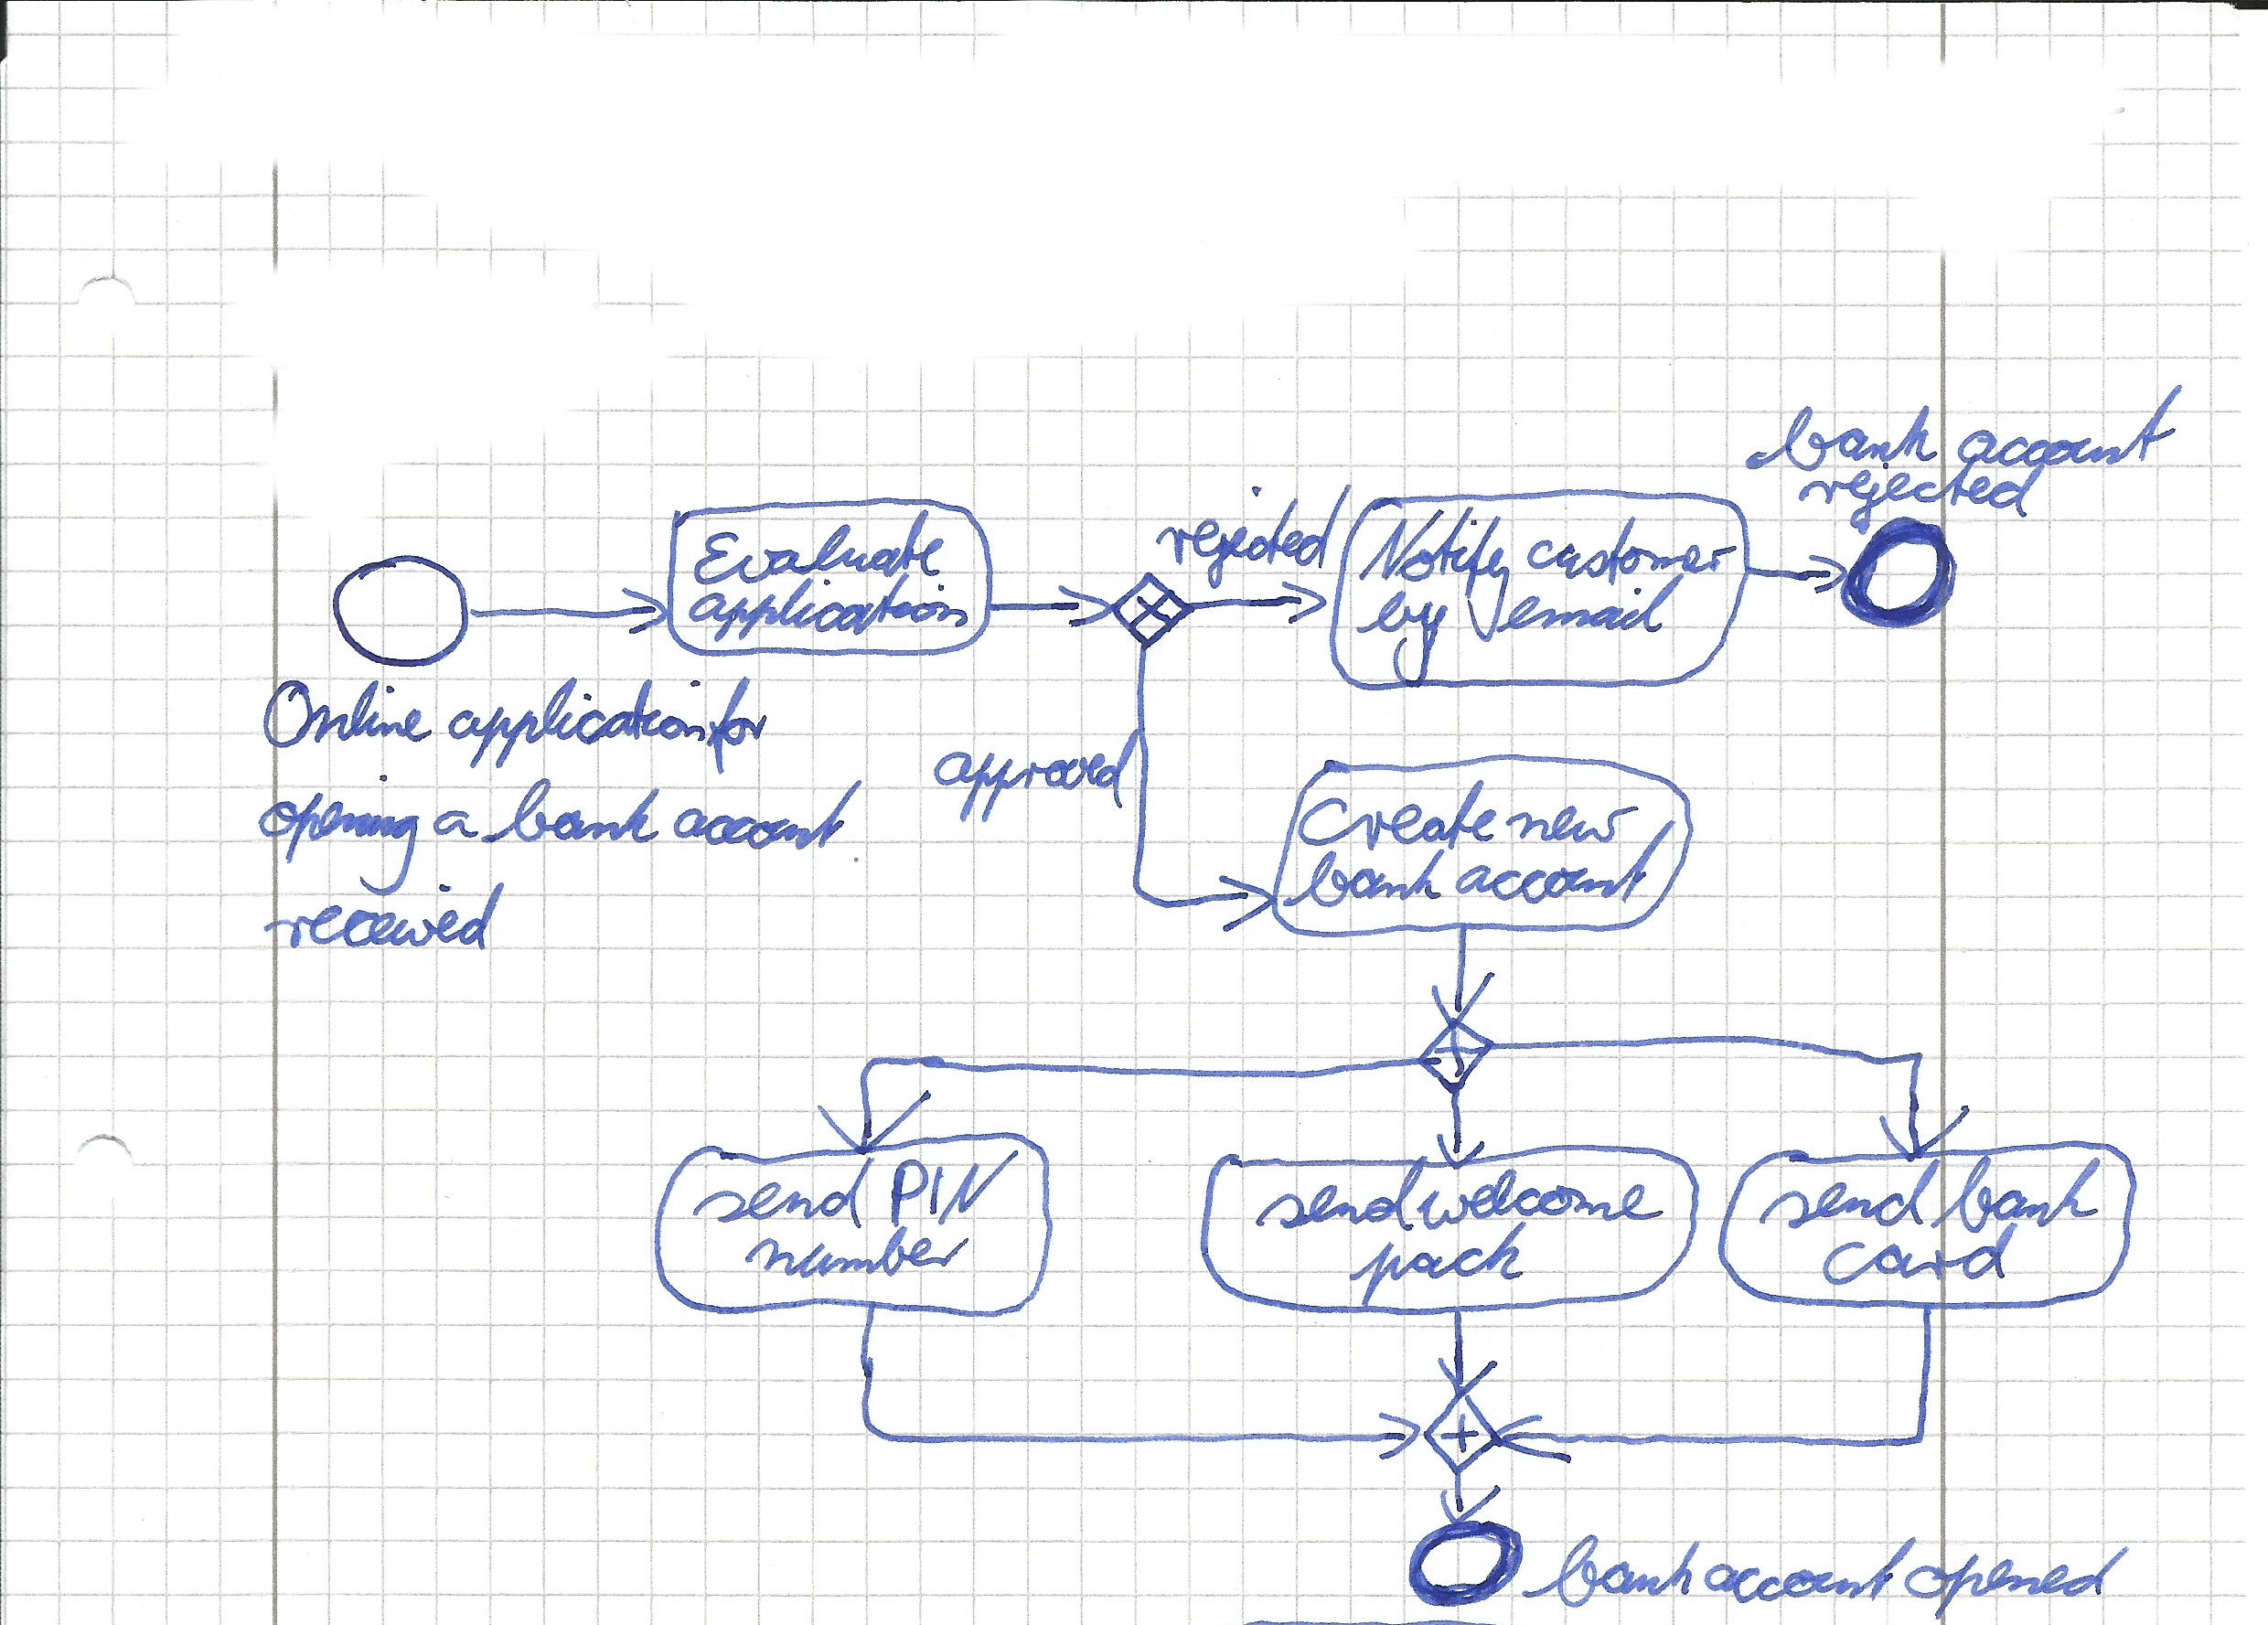Create: (1303, 779, 1500, 849)
Evaluate: (691, 508, 949, 586)
Notify: (1354, 506, 1514, 593)
Online: (258, 677, 431, 760)
PIN: (891, 1147, 1018, 1226)
a: (425, 802, 482, 848)
account: (1950, 383, 2192, 466), (1449, 844, 1674, 907), (1705, 1534, 1913, 1602), (670, 781, 865, 853)
application: (445, 677, 709, 769), (682, 587, 972, 644)
approved: (932, 744, 1138, 828)
bank: (1741, 399, 1946, 473), (1937, 1154, 2112, 1233), (483, 779, 665, 851), (1524, 1534, 1704, 1604), (1283, 851, 1454, 911)
by: (1357, 584, 1449, 686)
card: (1823, 1228, 2027, 1291)
customer: (1523, 512, 1739, 587)
email: (1505, 577, 1686, 649)
for: (703, 675, 784, 776)
new: (1503, 802, 1639, 848)
number: (745, 1229, 972, 1284)
opened: (1904, 1546, 2133, 1616)
opening: (257, 776, 425, 895)
pack: (1350, 1226, 1528, 1307)
recected: (1793, 464, 2048, 533)
received: (264, 897, 503, 964)
rejected: (1153, 478, 1357, 586)
send: (1756, 1157, 1943, 1240), (689, 1159, 883, 1231), (1259, 1152, 1426, 1226)
welcome: (1419, 1171, 1667, 1233)
